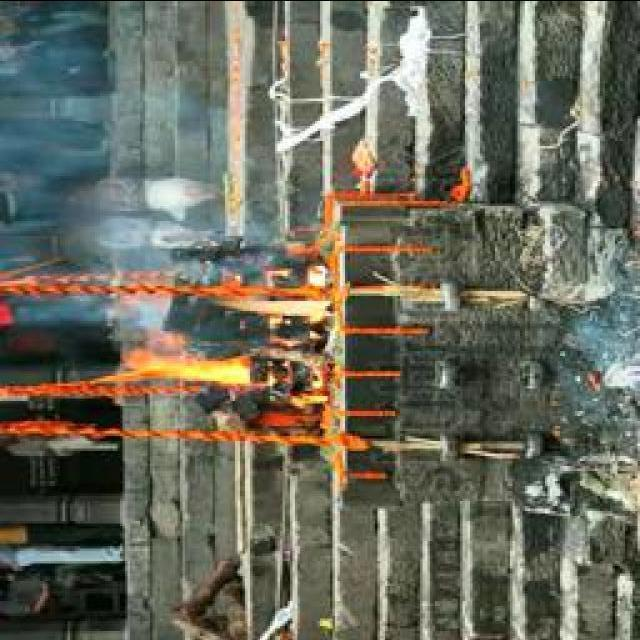Fire: (102, 264, 340, 398)
